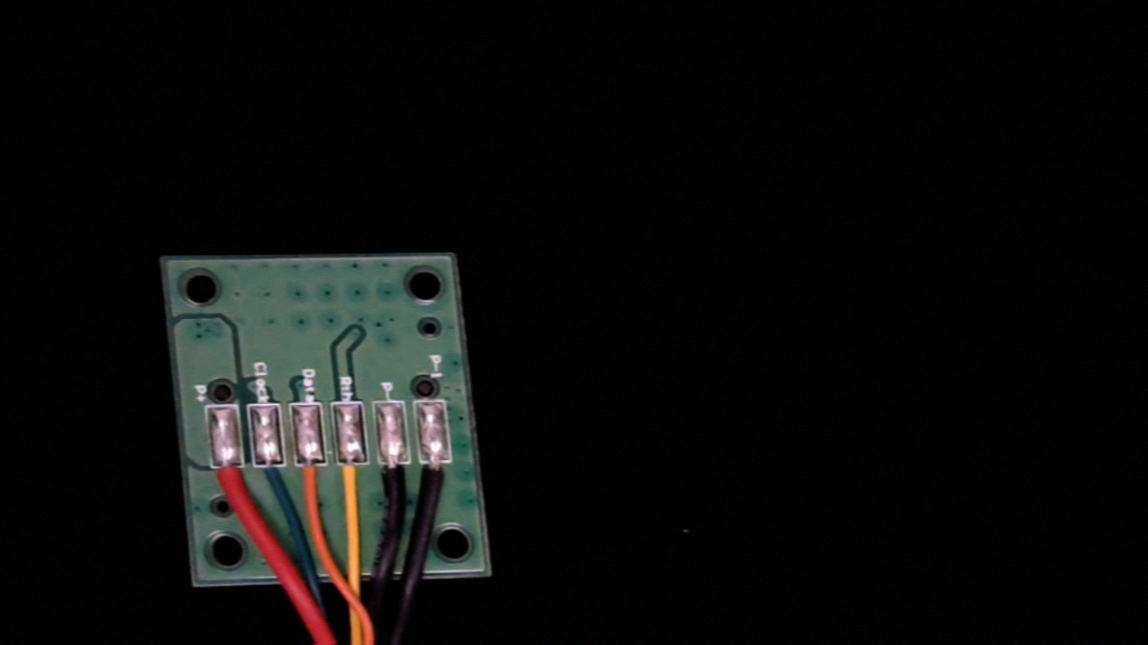Black: (378, 445, 417, 515)
Black1: (420, 447, 458, 507)
Green: (253, 448, 289, 507)
Orange: (295, 445, 333, 509)
Red: (211, 447, 252, 514)
Yellow: (338, 445, 375, 518)
